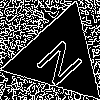N: (33, 32, 93, 89)
